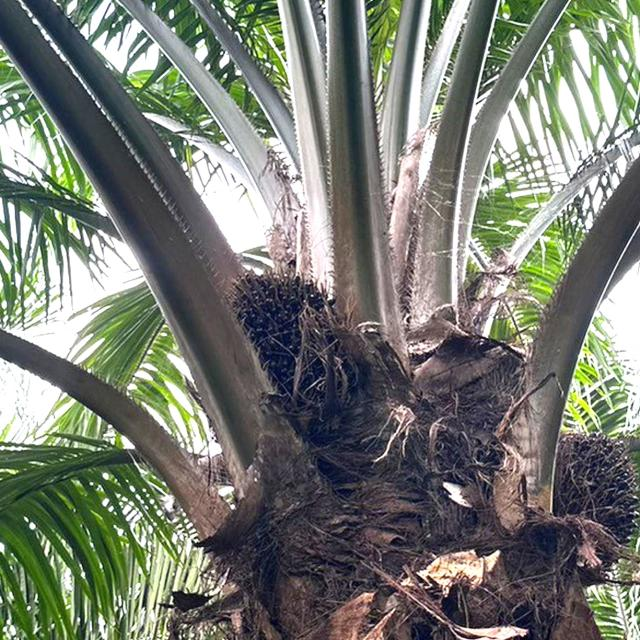unripe: (218, 263, 353, 413), (552, 425, 640, 562)
